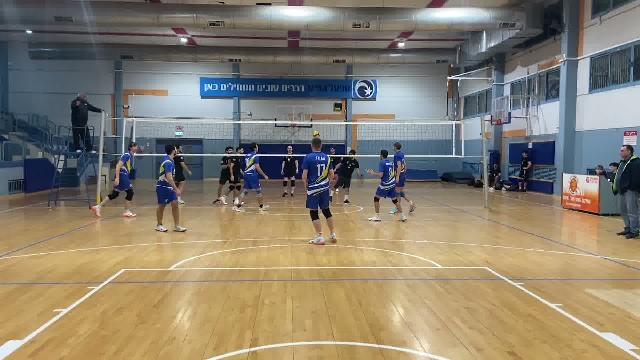ball: (309, 128, 322, 138)
